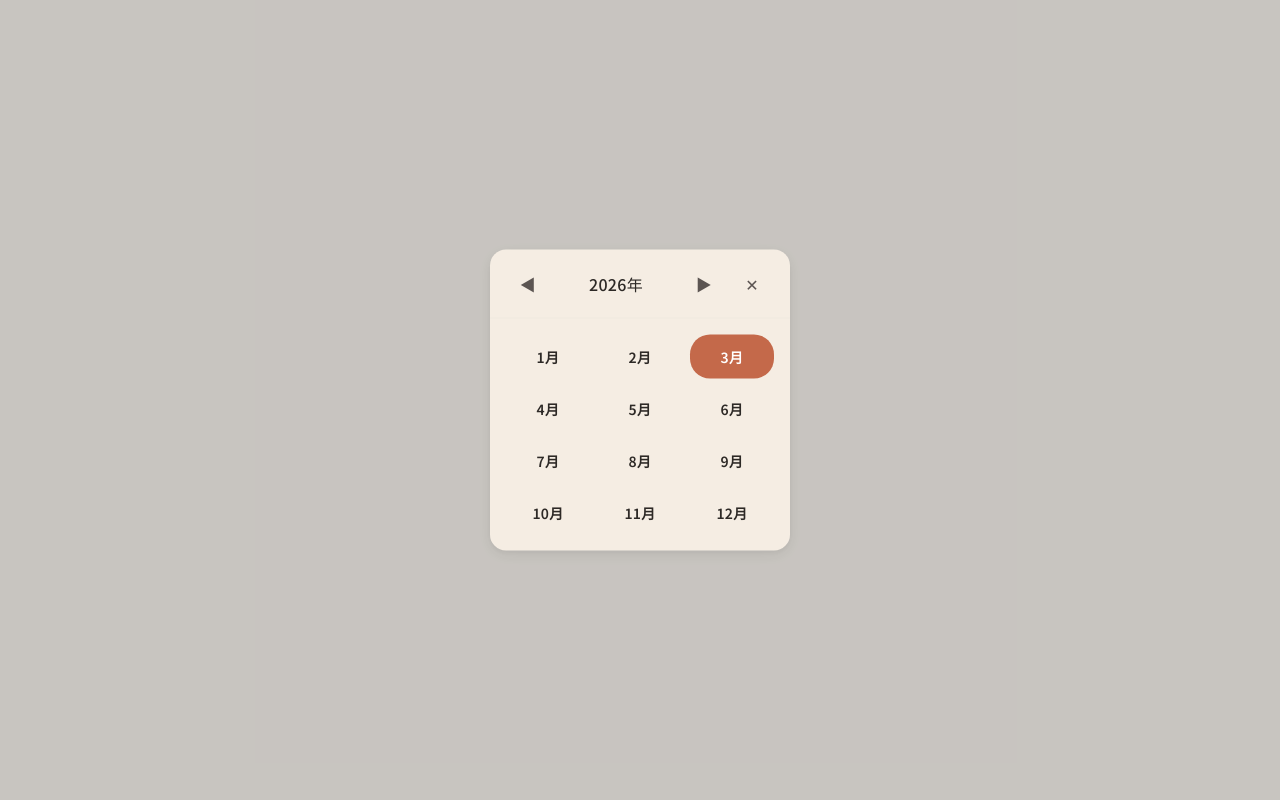
Test case: MonthPicker › navigates to previous year
Click the button "◀": [528, 284] box [506,262,550,306]
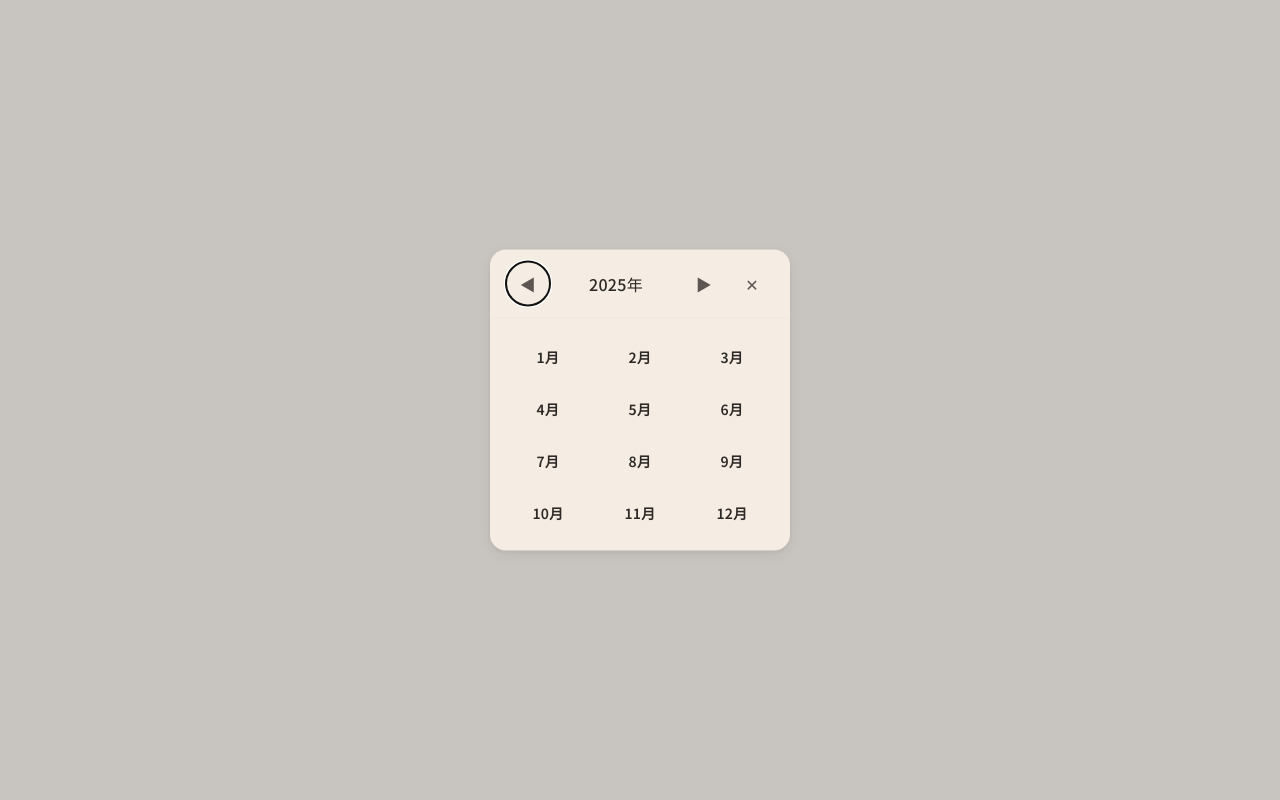
Result: the text "2025年" is shown at [589,272,643,296]
